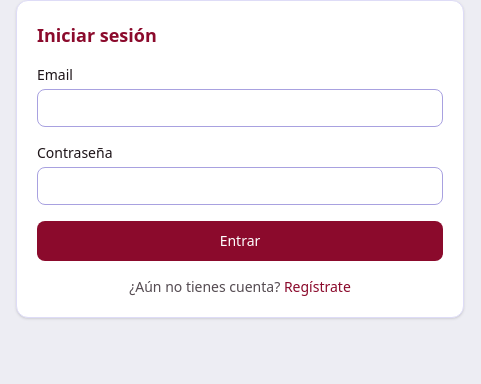
Test case: LoginPage › muestra errores de validación si el email no es válido
Note: El formulario aparece tras comprobar que no hay sesión.
Click the button "Entrar".
click(240, 241)  # box [37,221,443,261]
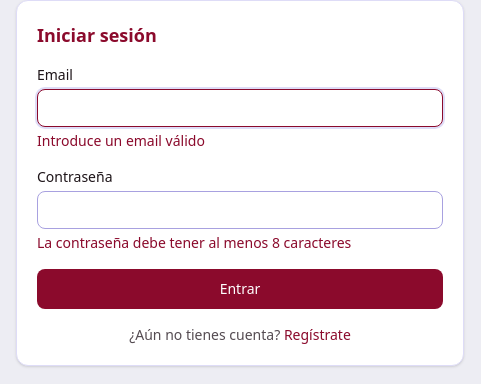
Expected: the text "Introduce un email válido" is shown, [37,131,205,150]
